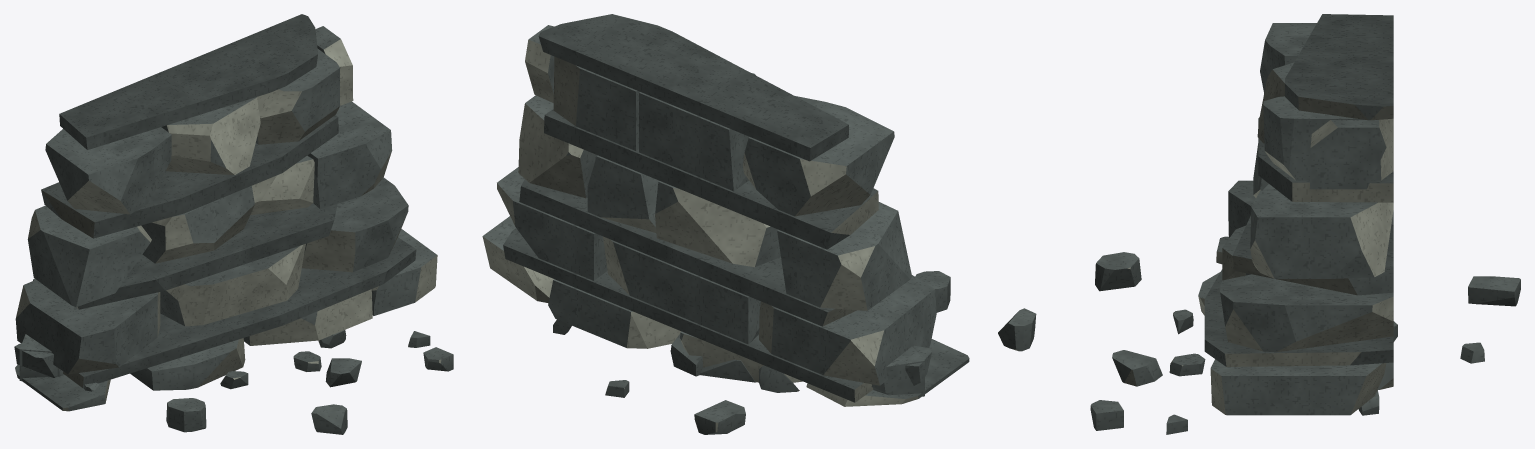
The picture shows the model from 3 angles, left to right: view 1: azimuth 30°, elevation 25°; view 2: azimuth 150°, elevation 25°; view 3: azimuth 270°, elevation 25°; orthographic projection. The views are drawn at different scales.
Visible parts, largest first — view 1: weathered mineral, fresh chipped mineral; view 2: weathered mineral, fresh chipped mineral; view 3: weathered mineral, fresh chipped mineral.
Part boxes in pixels (x1,y1,x2,y2): weathered mineral: (14, 14, 453, 434); fresh chipped mineral: (15, 39, 441, 411); weathered mineral: (482, 14, 969, 434); fresh chipped mineral: (482, 39, 918, 432); weathered mineral: (998, 14, 1520, 434); fresh chipped mineral: (1011, 69, 1393, 415).
Bounding box in the file's own units: 1.7 × 1.16 × 1.76.
2 materials, 2 textured.
